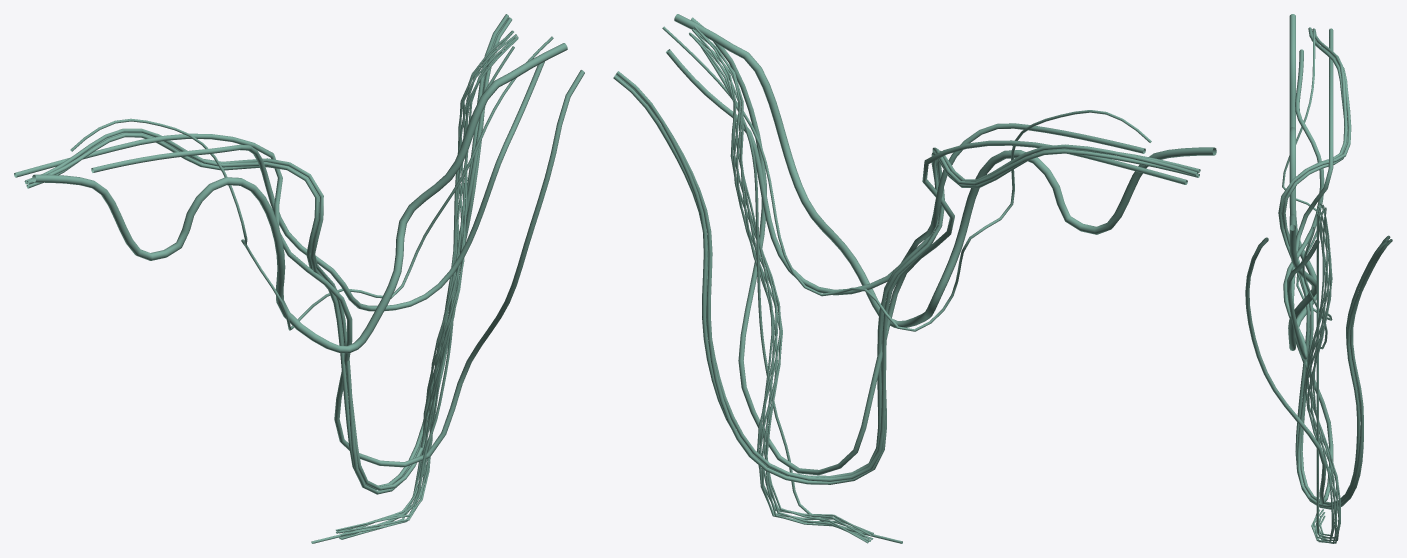
Rendered from cables_grouped.fbx.
3 renders of one model, left to right at view 1: azimuth 30°, elevation 25°; view 2: azimuth 150°, elevation 25°; view 3: azimuth 270°, elevation 25°, orthographic. The views are drawn at different scales.
Parts seen in each view (by area): view 1: cables1_sweep10; view 2: cables1_sweep10; view 3: cables1_sweep10.
Part boxes in pixels (x1,y1,x2,y2): cables1_sweep10: [14, 14, 584, 543]; cables1_sweep10: [613, 14, 1216, 543]; cables1_sweep10: [1245, 14, 1392, 543].
Size of the model in its own units: 12.17 by 10.36 by 3.53.
